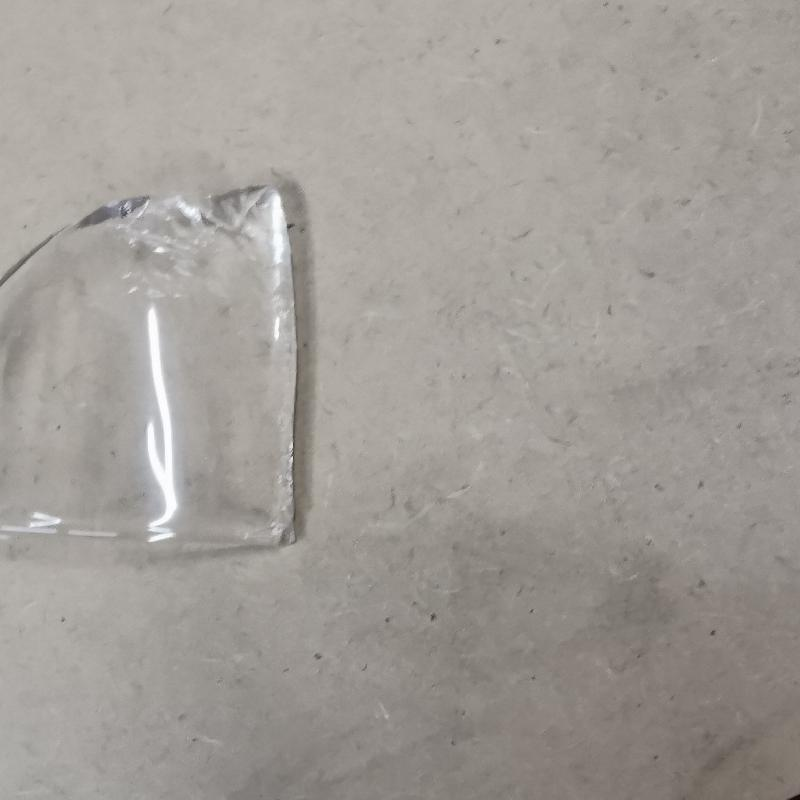glass: (3, 183, 303, 552)
